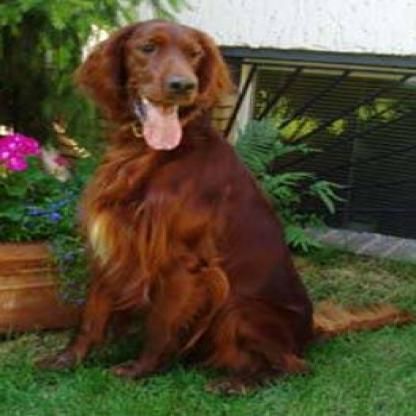Irish_setter: (27, 18, 413, 404)
